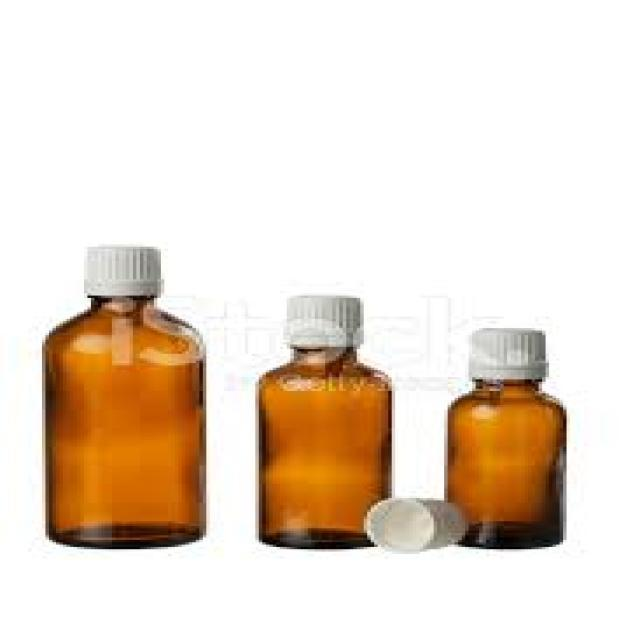Glass: (41, 294, 207, 552), (255, 347, 394, 550), (446, 377, 569, 550)
